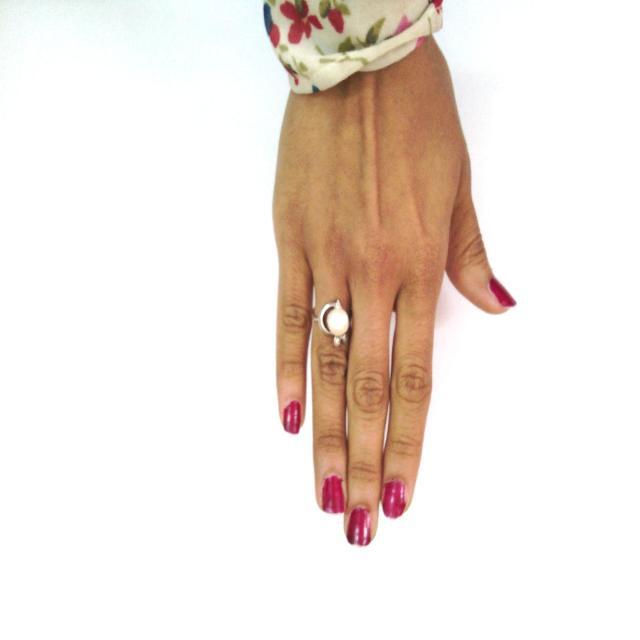Fingernail: (382, 480, 405, 519), (349, 508, 371, 546), (322, 476, 344, 514), (490, 278, 516, 307), (284, 402, 300, 434)
